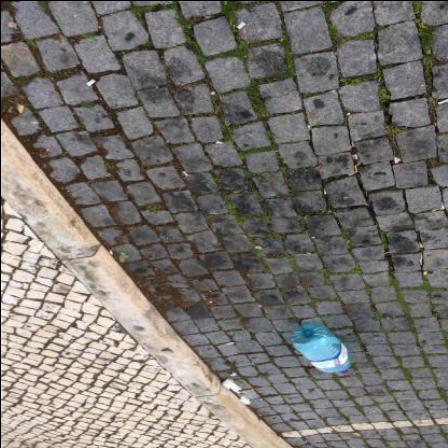Bottle: (291, 324, 353, 374)
Cigarette: (236, 22, 247, 30), (86, 79, 96, 87), (438, 99, 448, 105), (350, 171, 359, 176), (225, 341, 235, 345), (432, 208, 440, 212), (419, 242, 424, 248), (355, 154, 359, 160), (423, 272, 429, 276), (241, 393, 246, 397), (109, 251, 113, 256), (355, 165, 358, 171), (421, 255, 424, 261), (353, 155, 356, 159), (251, 388, 254, 392), (325, 188, 327, 194), (420, 261, 422, 265)
